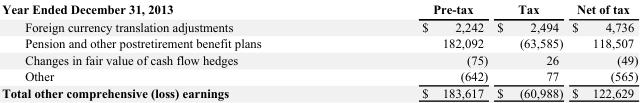table: (1, 1, 637, 99)
table column: (1, 1, 340, 99), (340, 1, 491, 99), (491, 1, 566, 99), (566, 1, 637, 99)
table column header: (1, 1, 637, 17)
table row: (1, 17, 637, 34), (1, 34, 637, 51), (1, 67, 637, 84), (1, 1, 637, 17), (1, 51, 637, 67), (1, 84, 637, 99)
